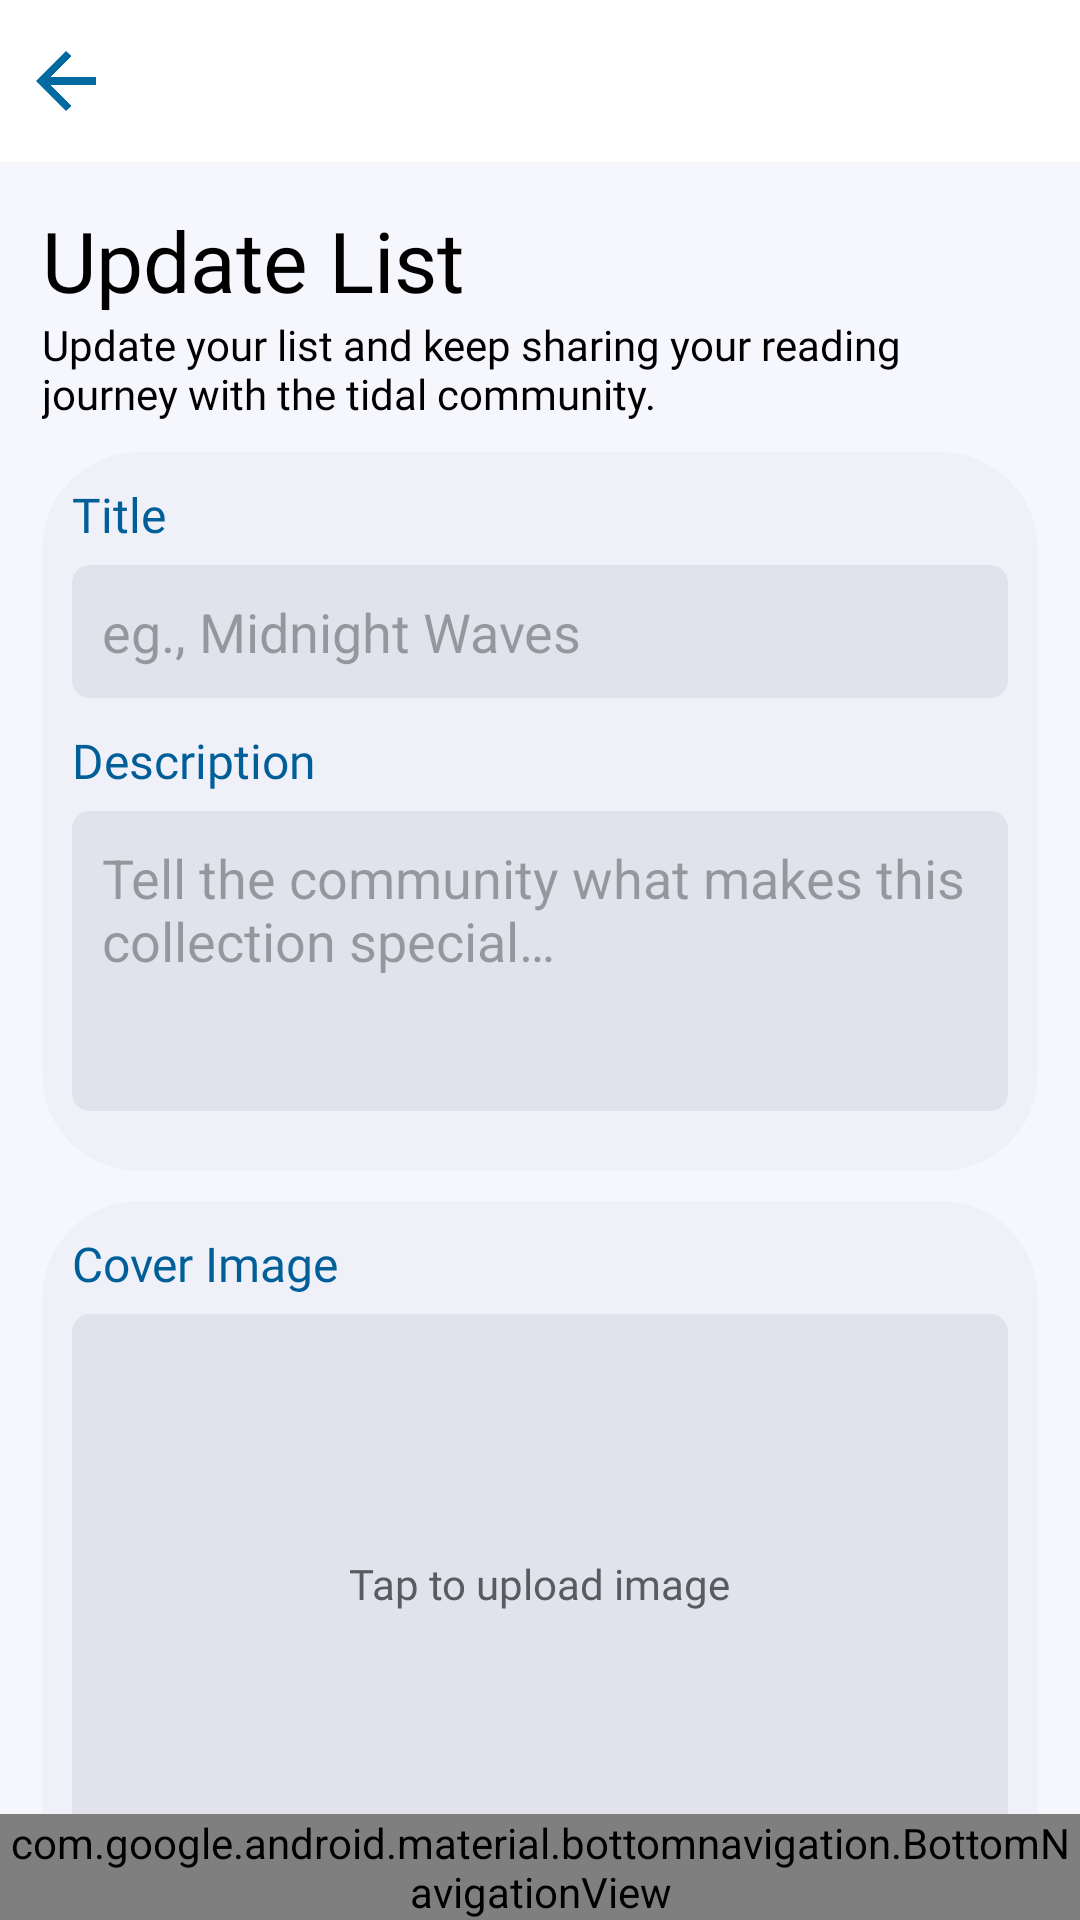

Icon bounding boxes for this 1080px x 1920px phone screenshot, format Rect(x1, y1, x2, y2):
Back: Rect(36, 51, 96, 111)
